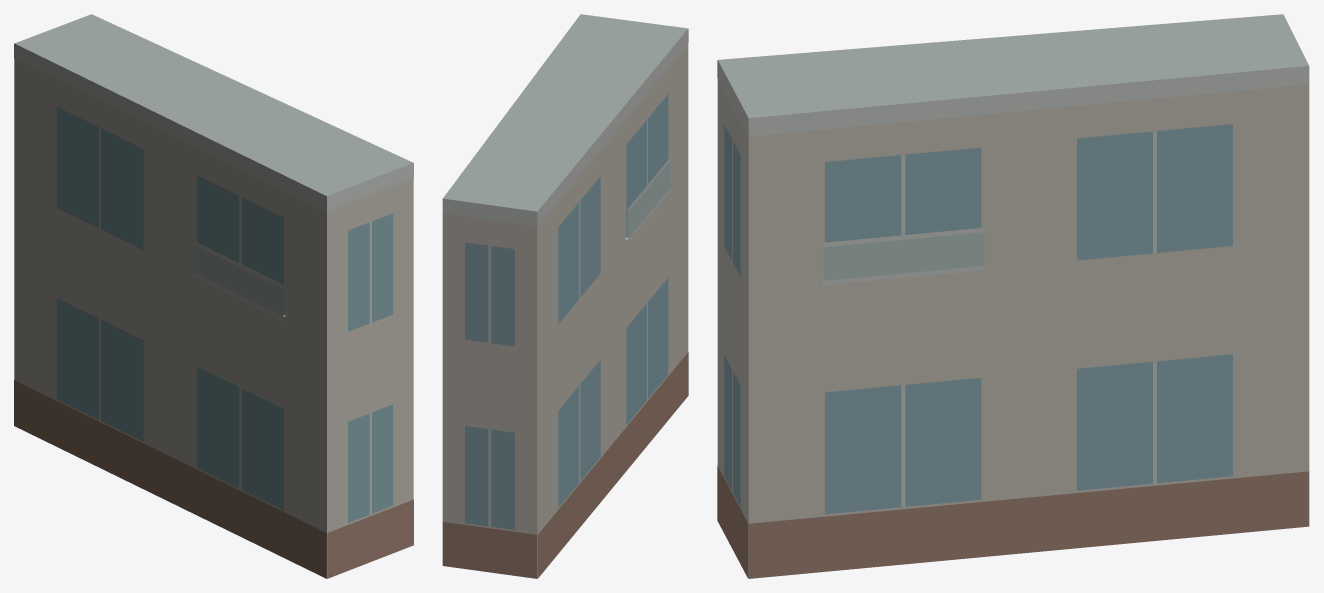
File: survey-upis-32619617.glb
The picture shows the model from 3 angles, left to right: view 1: azimuth 30°, elevation 25°; view 2: azimuth 150°, elevation 25°; view 3: azimuth 270°, elevation 25°; orthographic projection. The views are drawn at different scales.
Parts seen in each view (by area): view 1: survey-upis-32619617.tmp; view 2: survey-upis-32619617.tmp; view 3: survey-upis-32619617.tmp.
Part boxes in pixels (x1,y1,x2,y2): survey-upis-32619617.tmp: [14, 14, 413, 578]; survey-upis-32619617.tmp: [442, 14, 688, 578]; survey-upis-32619617.tmp: [717, 14, 1309, 578].
Size of the model in its own units: 2.97 by 6.1 by 7.11.
